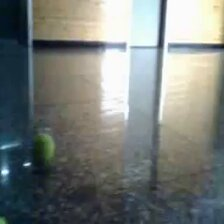tennis: (31, 135, 55, 166)
